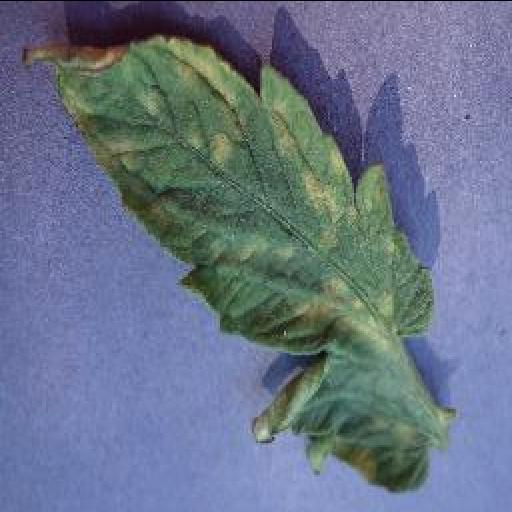disease_tomato: (16, 32, 438, 494)
